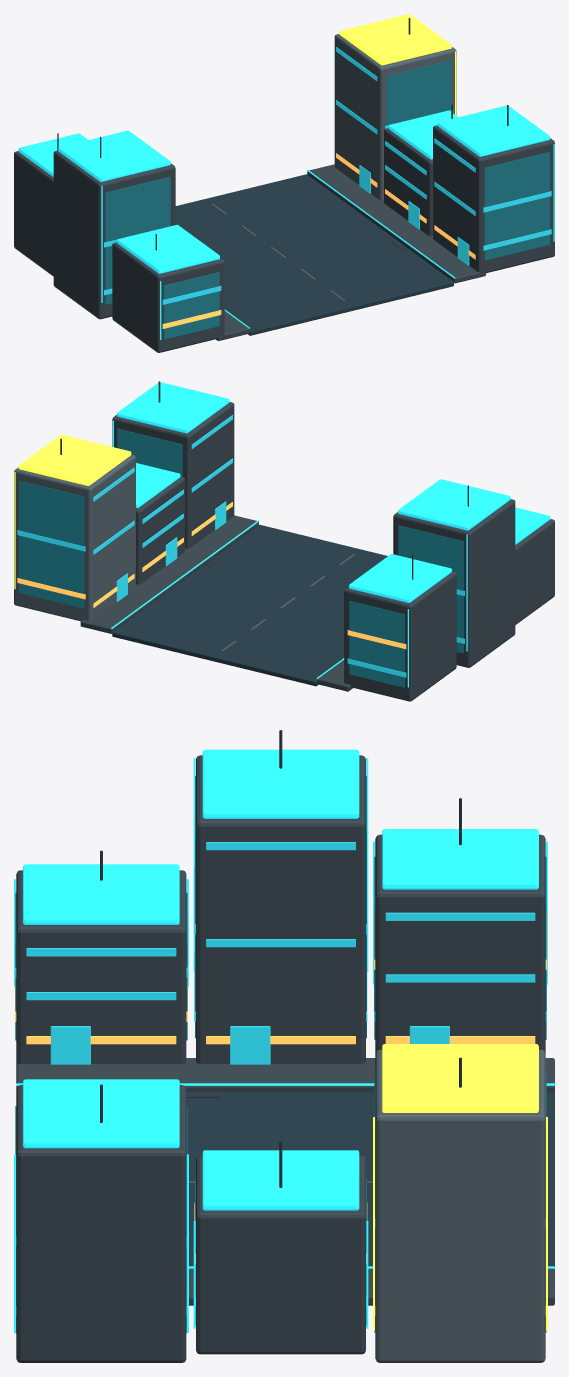
File: street_straight_lod1.glb
3 views of the same model, one above another, from view 1: azimuth 30°, elevation 25°; view 2: azimuth 150°, elevation 25°; view 3: azimuth 270°, elevation 25° (orthographic). The views are drawn at different scales.
Parts seen in each view (by area): view 1: ND_Batch_ND_CityConcrete, ND_Batch_ND_WetAsphalt, ND_Batch_ND_DarkGlass, ND_Batch_ND_CityCyanMuted, ND_Batch_ND_CityConcreteLight, ND_Batch_ND_RoadEdge, ND_Batch_ND_PackageGold, ND_Batch_ND_NeonGlass, ND_Batch_ND_WarmWindow; view 2: ND_Batch_ND_CityConcrete, ND_Batch_ND_WetAsphalt, ND_Batch_ND_DarkGlass, ND_Batch_ND_CityCyanMuted, ND_Batch_ND_CityConcreteLight, ND_Batch_ND_RoadEdge, ND_Batch_ND_PackageGold, ND_Batch_ND_NeonGlass, ND_Batch_ND_WarmWindow; view 3: ND_Batch_ND_CityConcrete, ND_Batch_ND_CityCyanMuted, ND_Batch_ND_CityConcreteLight, ND_Batch_ND_WetAsphalt, ND_Batch_ND_NeonGlass, ND_Batch_ND_PackageGold, ND_Batch_ND_RoadEdge, ND_Batch_ND_WarmWindow, ND_Batch_ND_DarkGlass, ND_Batch_ND_RooftopMetal.
Part boxes in pixels (x1,y1,x2,y2): ND_Batch_ND_CityConcrete: (14, 125, 554, 352); ND_Batch_ND_WetAsphalt: (175, 174, 453, 335); ND_Batch_ND_DarkGlass: (105, 60, 549, 339); ND_Batch_ND_CityCyanMuted: (18, 105, 554, 339); ND_Batch_ND_CityConcreteLight: (211, 34, 456, 300); ND_Batch_ND_RoadEdge: (216, 164, 485, 340); ND_Batch_ND_PackageGold: (339, 14, 456, 115); ND_Batch_ND_NeonGlass: (104, 47, 551, 304); ND_Batch_ND_WarmWindow: (162, 153, 475, 328); ND_Batch_ND_CityConcrete: (112, 402, 554, 701); ND_Batch_ND_WetAsphalt: (112, 525, 387, 686); ND_Batch_ND_DarkGlass: (19, 428, 463, 687); ND_Batch_ND_CityCyanMuted: (111, 382, 550, 687); ND_Batch_ND_CityConcreteLight: (14, 454, 354, 651); ND_Batch_ND_RoadEdge: (80, 515, 352, 691); ND_Batch_ND_PackageGold: (14, 434, 131, 589); ND_Batch_ND_NeonGlass: (17, 415, 464, 677); ND_Batch_ND_WarmWindow: (17, 502, 406, 649); ND_Batch_ND_CityConcrete: (16, 755, 545, 1362); ND_Batch_ND_CityCyanMuted: (14, 749, 554, 1332); ND_Batch_ND_CityConcreteLight: (189, 1049, 545, 1362); ND_Batch_ND_WetAsphalt: (186, 1092, 554, 1269); ND_Batch_ND_NeonGlass: (15, 842, 546, 1315); ND_Batch_ND_PackageGold: (373, 1044, 547, 1330); ND_Batch_ND_RoadEdge: (16, 1058, 554, 1305); ND_Batch_ND_WarmWindow: (15, 909, 546, 1315); ND_Batch_ND_DarkGlass: (15, 776, 546, 1333); ND_Batch_ND_RooftopMetal: (100, 730, 461, 1187).
Bounding box in the file's own units: 31.9 × 12.33 × 20.09.
